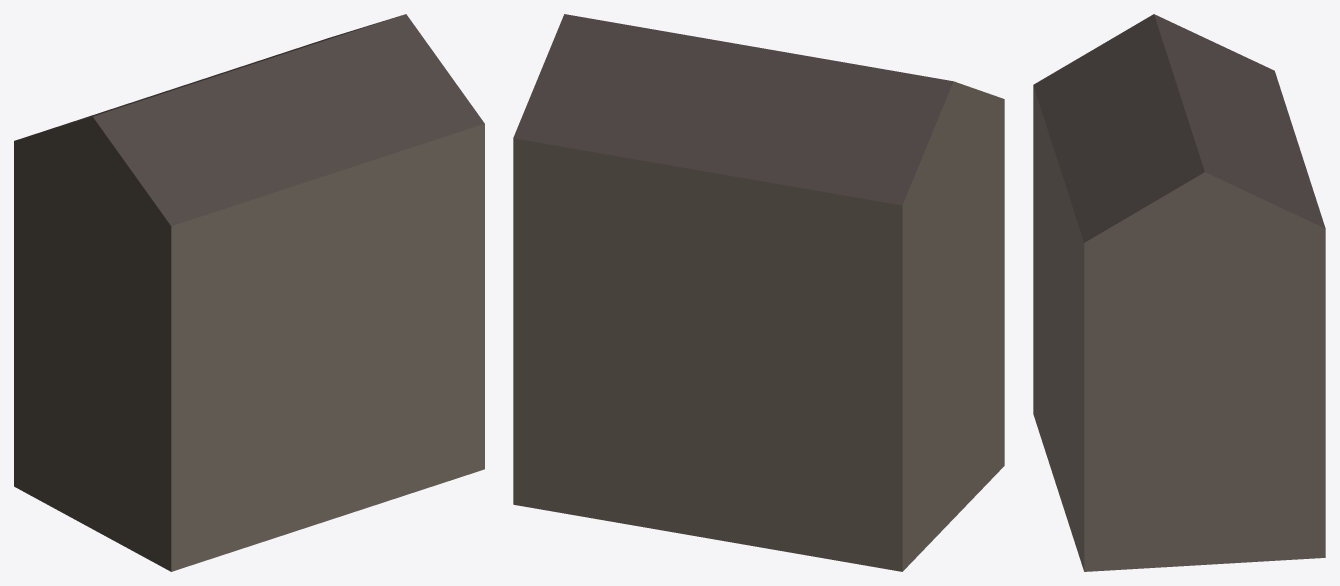
3 renders of one model, left to right at view 1: azimuth 30°, elevation 25°; view 2: azimuth 150°, elevation 25°; view 3: azimuth 270°, elevation 25°, orthographic. The views are drawn at different scales.
Visible parts, largest first — view 1: HP-w1365659942; view 2: HP-w1365659942; view 3: HP-w1365659942.
Part boxes in pixels (left/top/right/bottom): HP-w1365659942: left=14, top=14, right=484, bottom=571; HP-w1365659942: left=513, top=14, right=1004, bottom=571; HP-w1365659942: left=1033, top=14, right=1325, bottom=571.
Size of the model in its own units: 6.74 by 7.16 by 4.83.
